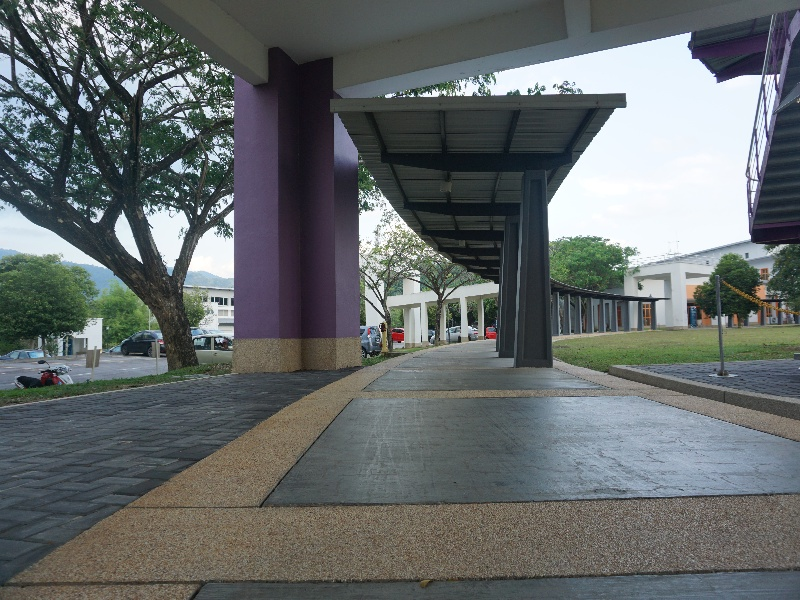Block D Pillar 6: (9, 5, 799, 550)
pillar: (224, 31, 357, 378), (511, 164, 555, 379)
